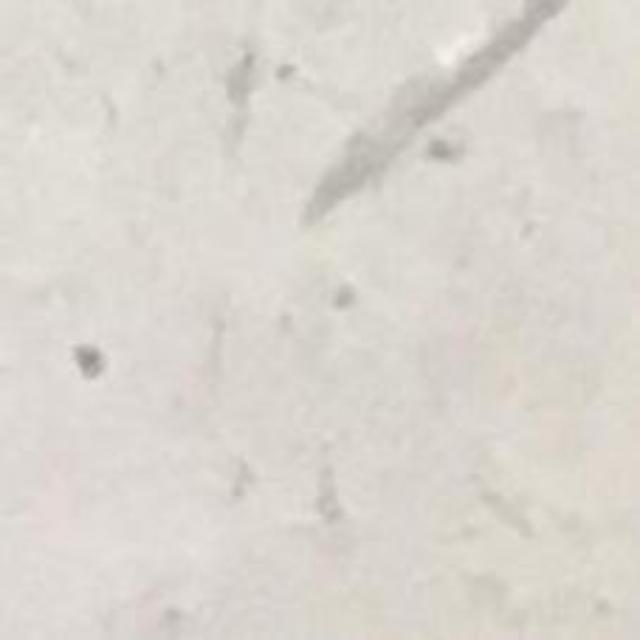crack: (291, 0, 566, 225)
